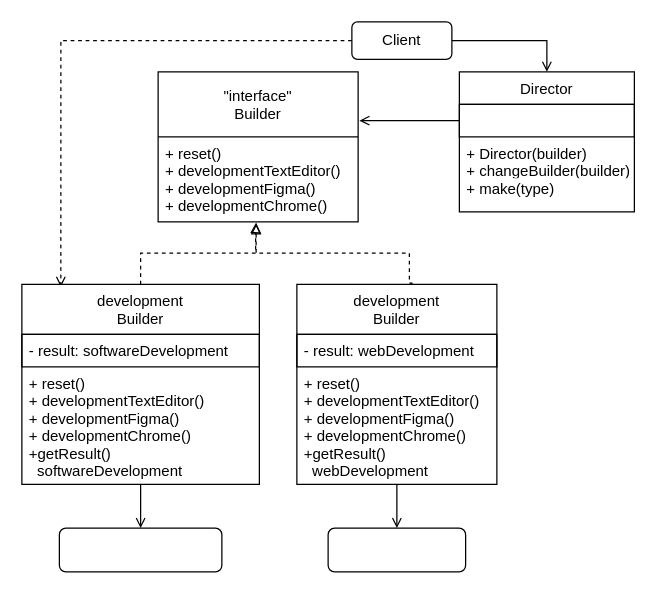
Image size: 656x595. Some labels were removed from this diagram. The box of each missing label's shape, as (x1, y1, x2, y2) in pixels:
- builder: Builder: (458, 103, 634, 137)
softwareDevelopment: (58, 527, 222, 572)
webDevelopment: (327, 527, 466, 572)
